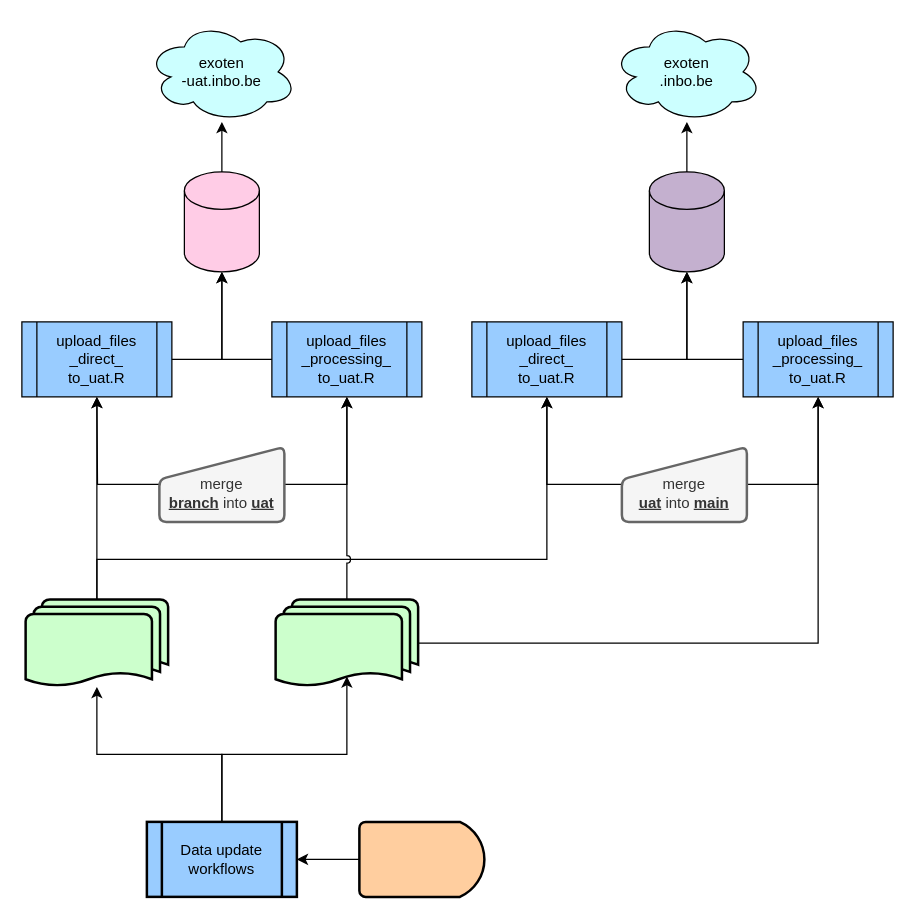
The diagram is 915 pixels wide and 920 high, and some of its shapes have lost their labels. Here are the shapes that lost their labels. From the top down, the centre of each, then its label:
At [221,221]: "UAT _bucket".
At [686,221]: "PROD _bucket".
At [96,643]: "./data/output/ UAT_direct".
At [346,643]: "./data/output/ UAT_processing".
At [421,859]: "Scheduled".
